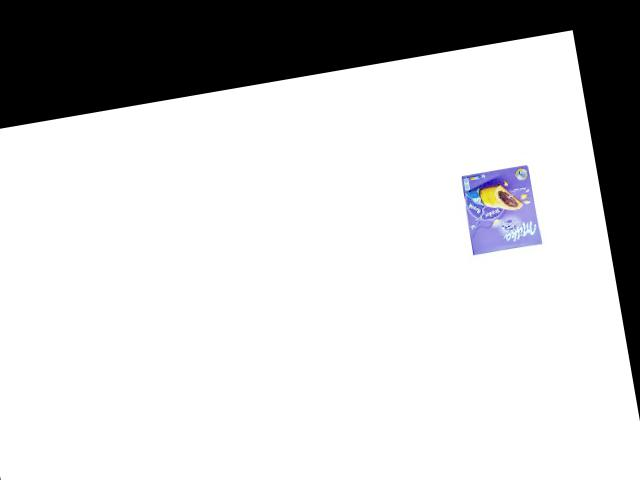chocolate: (455, 158, 547, 261)
